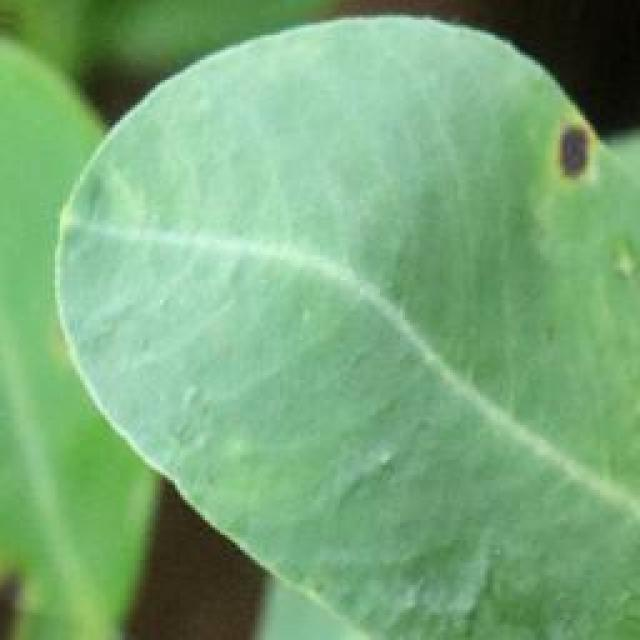Sigatoka: (520, 114, 600, 198)
